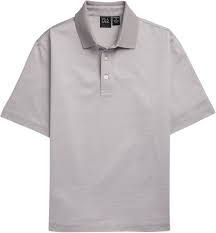C_polo shirt: (9, 2, 216, 224)
